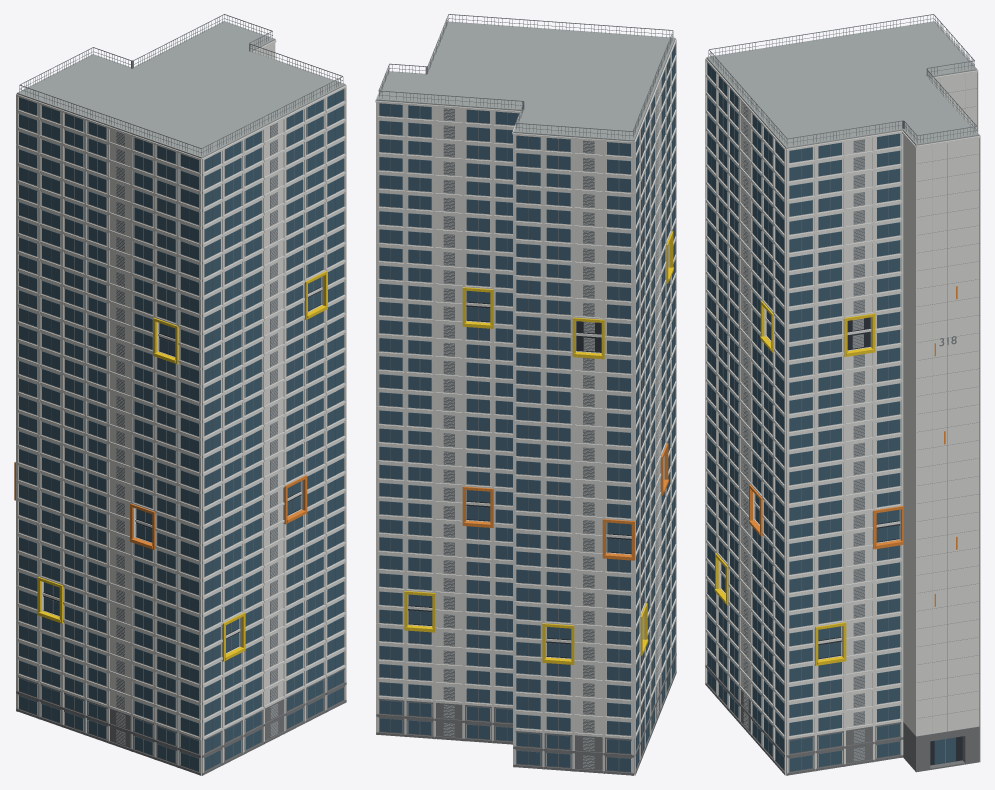
File: bespoke-songpa-helio-city-318.glb
3 renders of one model, left to right at view 1: azimuth 30°, elevation 25°; view 2: azimuth 150°, elevation 25°; view 3: azimuth 270°, elevation 25°, orthographic. The views are drawn at different scales.
Visible parts, largest first — view 1: Helio318_editable_Helio318_dark_blue_grey_glazing, Helio318_editable_Helio318_white_slab_frames, Helio318_editable_Helio318_low_roof_deck, Helio318_editable_Helio318_grey_service_grille, Helio318_editable_Helio318_blankwall_grey_panels, Helio318_editable_Helio318_dark_grey_twofloor_base, Helio318_editable_Helio318_yellow_projecting_rectangular_fra, Helio318_editable_Helio318_orange_narrow_accent; view 2: Helio318_editable_Helio318_white_slab_frames, Helio318_editable_Helio318_dark_blue_grey_glazing, Helio318_editable_Helio318_grey_service_grille, Helio318_editable_Helio318_low_roof_deck, Helio318_editable_Helio318_blankwall_grey_panels, Helio318_editable_Helio318_dark_grey_twofloor_base, Helio318_editable_Helio318_yellow_projecting_rectangular_fra, Helio318_editable_Helio318_orange_narrow_accent, Helio318_editable_Helio318_deep_shaded_frame_recess; view 3: Helio318_editable_Helio318_white_slab_frames, Helio318_editable_Helio318_dark_blue_grey_glazing, Helio318_editable_Helio318_low_roof_deck, Helio318_editable_Helio318_grey_service_grille, Helio318_editable_Helio318_blankwall_grey_panels, Helio318_editable_Helio318_dark_grey_twofloor_base, Helio318_editable_Helio318_yellow_projecting_rectangular_fra, Helio318_editable_Helio318_orange_narrow_accent, Helio318_editable_Helio318_deep_shaded_frame_recess.
Boxes of the visible parts, x1,y1,x2,y2 form: Helio318_editable_Helio318_dark_blue_grey_glazing: [19, 89, 343, 771]; Helio318_editable_Helio318_white_slab_frames: [16, 39, 346, 775]; Helio318_editable_Helio318_low_roof_deck: [17, 21, 345, 158]; Helio318_editable_Helio318_grey_service_grille: [19, 14, 343, 767]; Helio318_editable_Helio318_blankwall_grey_panels: [116, 123, 277, 744]; Helio318_editable_Helio318_dark_grey_twofloor_base: [16, 668, 346, 775]; Helio318_editable_Helio318_yellow_projecting_rectangular_fra: [37, 271, 327, 661]; Helio318_editable_Helio318_orange_narrow_accent: [14, 461, 307, 550]; Helio318_editable_Helio318_white_slab_frames: [375, 22, 676, 775]; Helio318_editable_Helio318_dark_blue_grey_glazing: [379, 44, 675, 771]; Helio318_editable_Helio318_grey_service_grille: [378, 14, 673, 770]; Helio318_editable_Helio318_low_roof_deck: [376, 21, 675, 141]; Helio318_editable_Helio318_blankwall_grey_panels: [444, 85, 659, 768]; Helio318_editable_Helio318_dark_grey_twofloor_base: [376, 653, 676, 775]; Helio318_editable_Helio318_yellow_projecting_rectangular_fra: [404, 231, 673, 664]; Helio318_editable_Helio318_orange_narrow_accent: [462, 443, 668, 560]; Helio318_editable_Helio318_deep_shaded_frame_recess: [408, 291, 631, 658]; Helio318_editable_Helio318_white_slab_frames: [705, 22, 980, 775]; Helio318_editable_Helio318_dark_blue_grey_glazing: [707, 63, 955, 771]; Helio318_editable_Helio318_low_roof_deck: [706, 21, 979, 148]; Helio318_editable_Helio318_grey_service_grille: [708, 14, 978, 769]; Helio318_editable_Helio318_blankwall_grey_panels: [743, 75, 965, 760]; Helio318_editable_Helio318_dark_grey_twofloor_base: [705, 651, 979, 775]; Helio318_editable_Helio318_yellow_projecting_rectangular_fra: [714, 300, 875, 665]; Helio318_editable_Helio318_orange_narrow_accent: [749, 286, 957, 606]; Helio318_editable_Helio318_deep_shaded_frame_recess: [721, 317, 962, 765].
Size of the model in its own units: 35.46 by 82.2 by 32.27.
